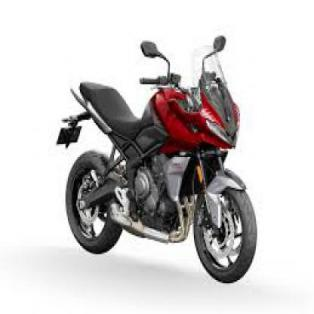Motocicleta: (56, 24, 260, 287)
